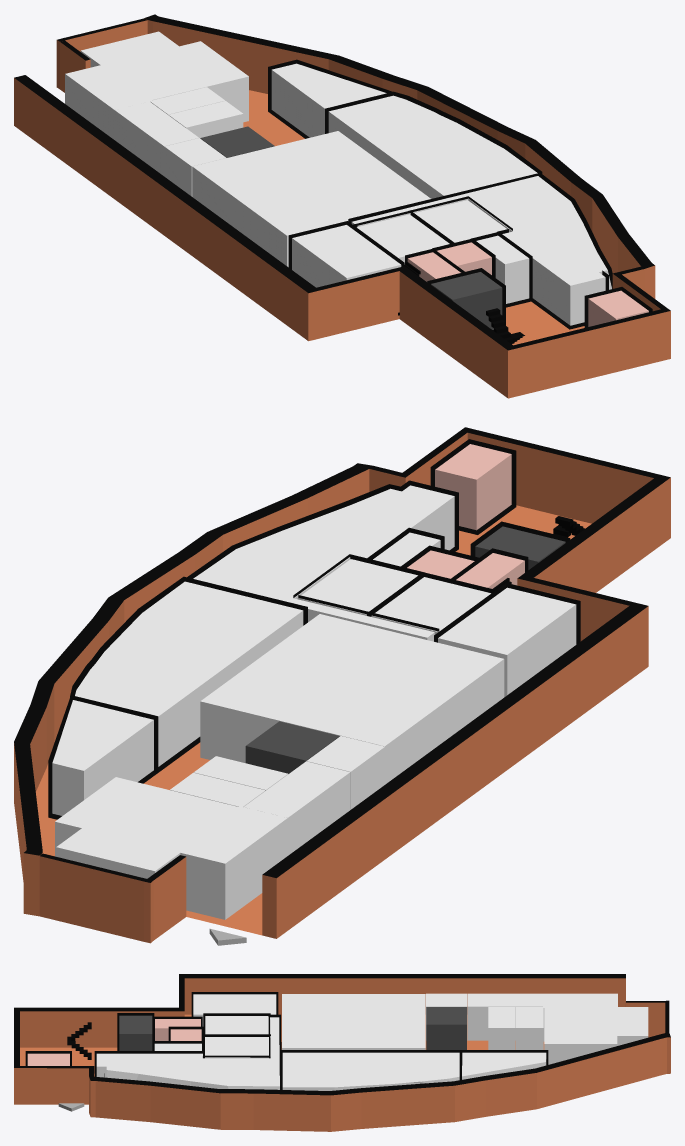
The picture shows the model from 3 angles, top to bottom: view 1: azimuth 30°, elevation 25°; view 2: azimuth 150°, elevation 25°; view 3: azimuth 270°, elevation 25°; orthographic projection. The views are drawn at different scales.
Visible parts, largest first — view 1: object, room_G_B1_1, room_G_B1_2, room_G_B1_4, room_G_B1_7, room_G_B1_5, room_G_B1_6, エレベーター_G_B1_2, room_G_B1_3, object_line.004, トイレ_G_1_3, エレベーター_G_B1_1 (+5 smaller); view 2: object, room_G_B1_1, room_G_B1_2, room_G_B1_4, room_G_B1_7, トイレ_G_1_3, room_G_B1_6, room_G_B1_5, エレベーター_G_B1_1, object_line.004, object_line, エレベーター_G_B1_2 (+6 smaller); view 3: object, room_G_B1_1, room_G_B1_2, room_G_B1_7, エレベーター_G_B1_1, room_G_B1_4, room_G_B1_6, エレベーター_G_B1_2, room_G_B1_5, object_line.004, object_line, トイレ_G_1_2 (+9 smaller).
Part boxes in pixels (x1=…): object: x1=14, y1=14, x2=670, y2=398; room_G_B1_1: x1=328, y1=95, x2=537, y2=198; room_G_B1_2: x1=351, y1=176, x2=611, y2=325; room_G_B1_4: x1=292, y1=225, x2=401, y2=287; room_G_B1_7: x1=271, y1=63, x2=386, y2=137; room_G_B1_5: x1=357, y1=214, x2=449, y2=264; room_G_B1_6: x1=414, y1=200, x2=509, y2=242; エレベーター_G_B1_2: x1=431, y1=272, x2=502, y2=329; room_G_B1_3: x1=476, y1=235, x2=529, y2=303; object_line.004: x1=348, y1=173, x2=612, y2=329; トイレ_G_1_3: x1=588, y1=290, x2=648, y2=326; エレベーター_G_B1_1: x1=200, y1=126, x2=274, y2=157; object: x1=14, y1=427, x2=670, y2=943; room_G_B1_1: x1=75, y1=581, x2=303, y2=766; room_G_B1_2: x1=193, y1=485, x2=454, y2=641; room_G_B1_4: x1=438, y1=587, x2=576, y2=696; room_G_B1_7: x1=52, y1=700, x2=153, y2=815; トイレ_G_1_3: x1=435, y1=444, x2=511, y2=530; room_G_B1_6: x1=297, y1=559, x2=417, y2=615; room_G_B1_5: x1=371, y1=577, x2=490, y2=634; エレベーター_G_B1_1: x1=245, y1=721, x2=339, y2=773; object_line.004: x1=185, y1=480, x2=458, y2=631; object_line: x1=70, y1=576, x2=307, y2=773; エレベーター_G_B1_2: x1=475, y1=526, x2=565, y2=569; object: x1=14, y1=974, x2=670, y2=1131; room_G_B1_1: x1=282, y1=1052, x2=459, y2=1090; room_G_B1_2: x1=96, y1=1017, x2=279, y2=1089; room_G_B1_7: x1=462, y1=1052, x2=546, y2=1079; エレベーター_G_B1_1: x1=426, y1=1007, x2=466, y2=1049; room_G_B1_4: x1=193, y1=994, x2=276, y2=1026; room_G_B1_6: x1=205, y1=1037, x2=268, y2=1058; エレベーター_G_B1_2: x1=119, y1=1015, x2=152, y2=1050; room_G_B1_5: x1=205, y1=1016, x2=268, y2=1034; object_line.004: x1=94, y1=1014, x2=281, y2=1089; object_line: x1=280, y1=1050, x2=461, y2=1089; トイレ_G_1_2: x1=155, y1=1019, x2=200, y2=1040.
Size of the model in its own units: 1.56 by 0.2226 by 3.58.
